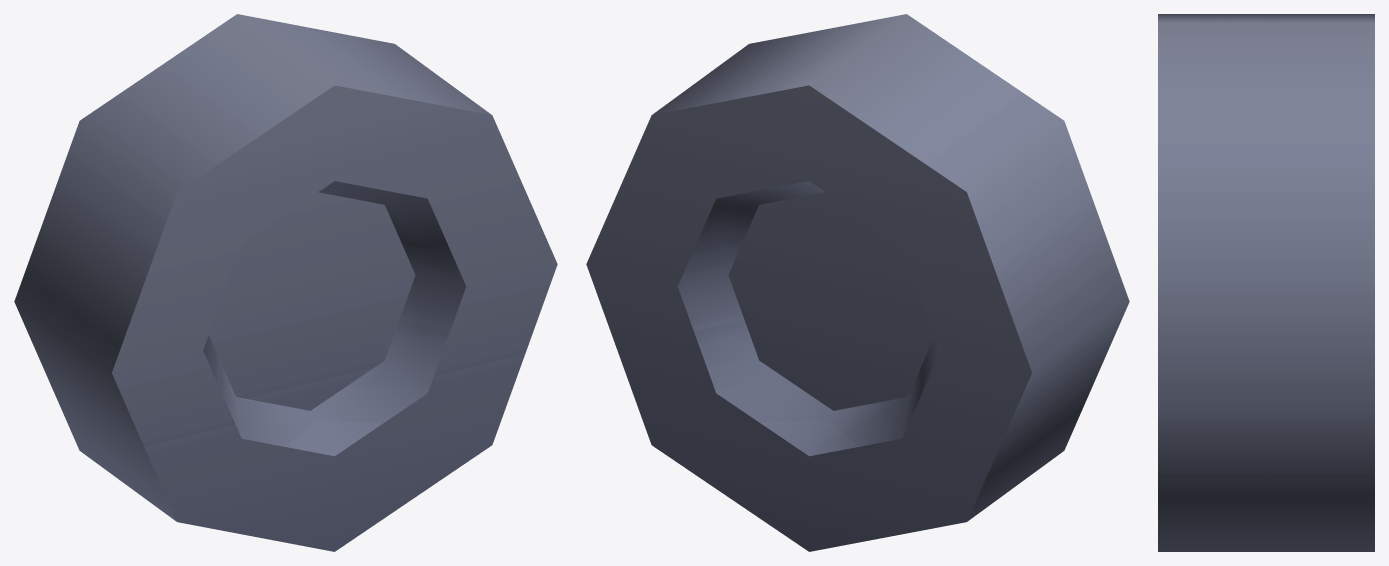
File: item-coin-silver.glb
3 renders of one model, left to right at view 1: azimuth 30°, elevation 25°; view 2: azimuth 150°, elevation 25°; view 3: azimuth 270°, elevation 25°, orthographic. The views are drawn at different scales.
Parts seen in each view (by area): view 1: item-coin-silver; view 2: item-coin-silver; view 3: item-coin-silver.
Part boxes in pixels (x1,y1,x2,y2): item-coin-silver: (14,14,557,551); item-coin-silver: (586,14,1129,551); item-coin-silver: (1158,14,1374,551).
Size of the model in its own units: 0.264 by 0.264 by 0.1.
Materials: 1 (1 with a texture image).
